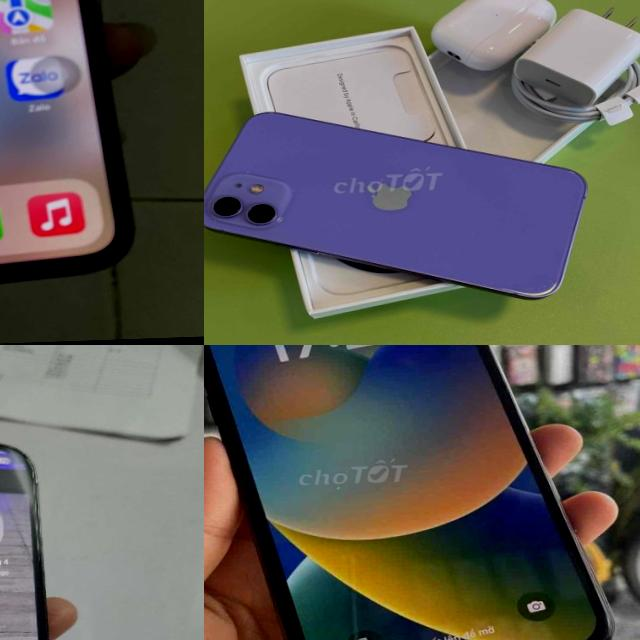gen_11: (0, 0, 141, 309)
gen_12_13: (204, 96, 593, 311), (0, 414, 73, 640)
gen_x_xs: (204, 345, 624, 640)
